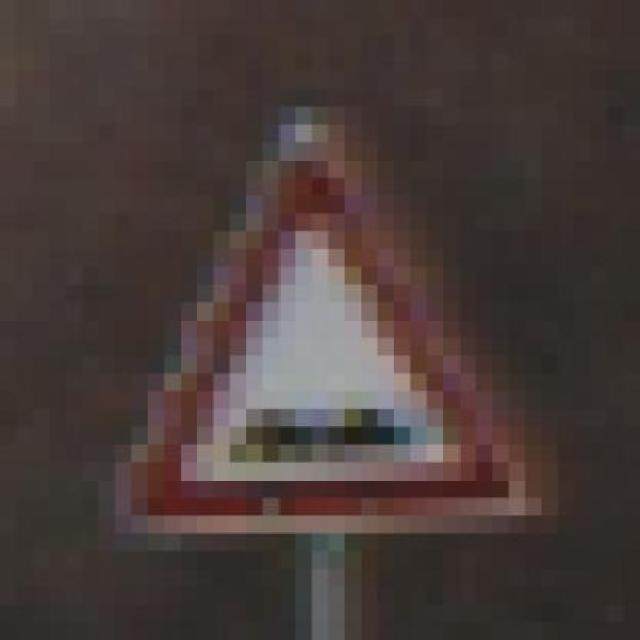Uneven Road: (81, 107, 542, 551)
